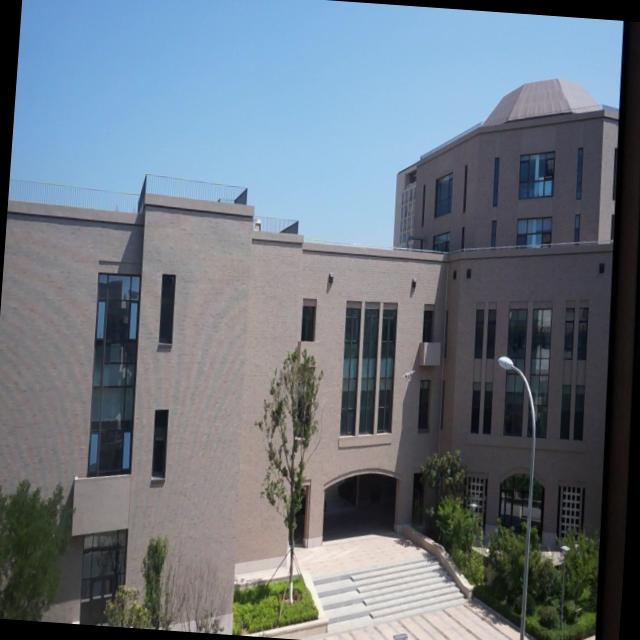drone: (399, 366, 416, 386)
